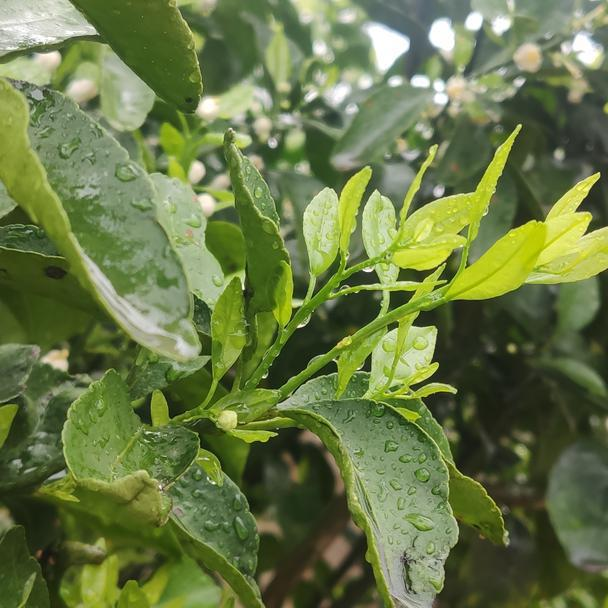shoot: (391, 166, 608, 314), (270, 182, 469, 326)
